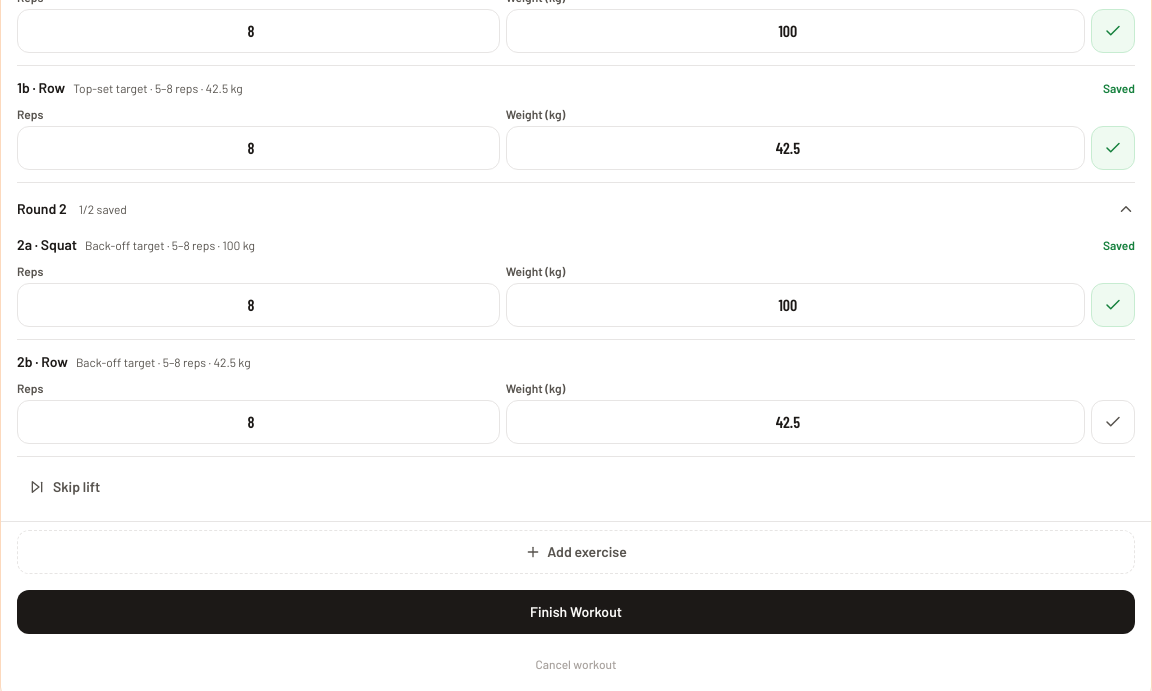
Test: active superset rounds › keeps an otherwise complete superset open for newer edits and their discard until a fresh save
(page scrolled)
Expected: the number field named "Squat set 1a reps" is shown, [17,9,500,53]
Click the button named "Save set 2b".
click(1113, 422)  # box [1091,400,1135,444]
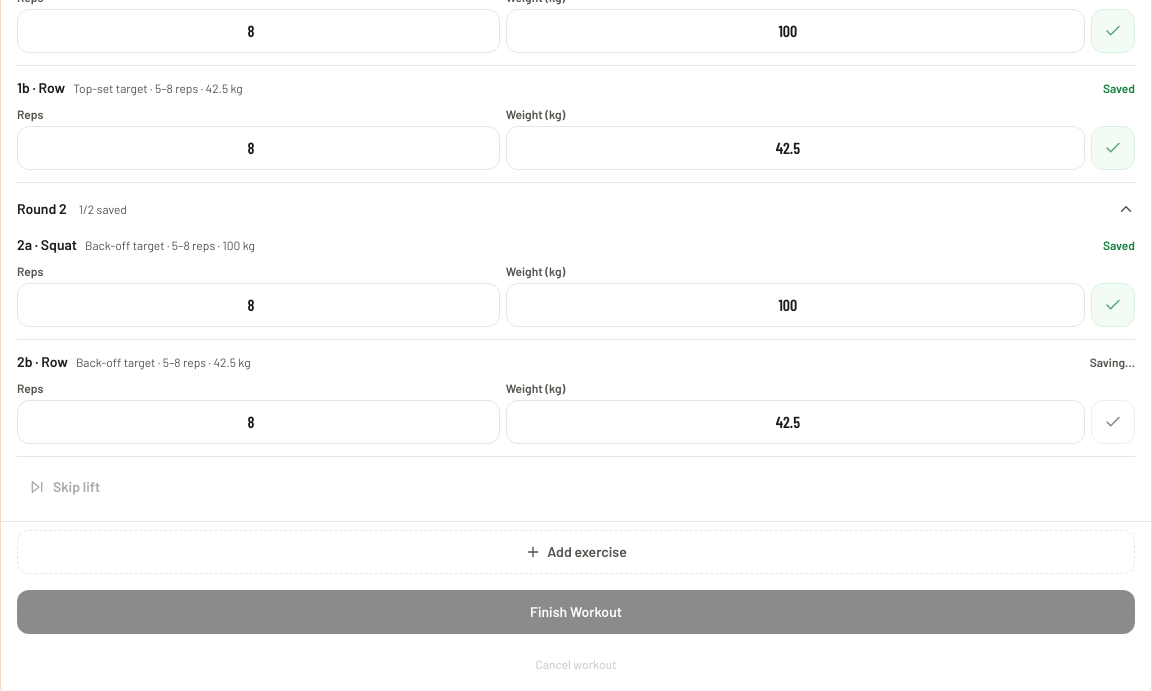
Replace the text in the number field named "Row set 2b reps" with "7" at point(258, 422), box [17,400,500,444]
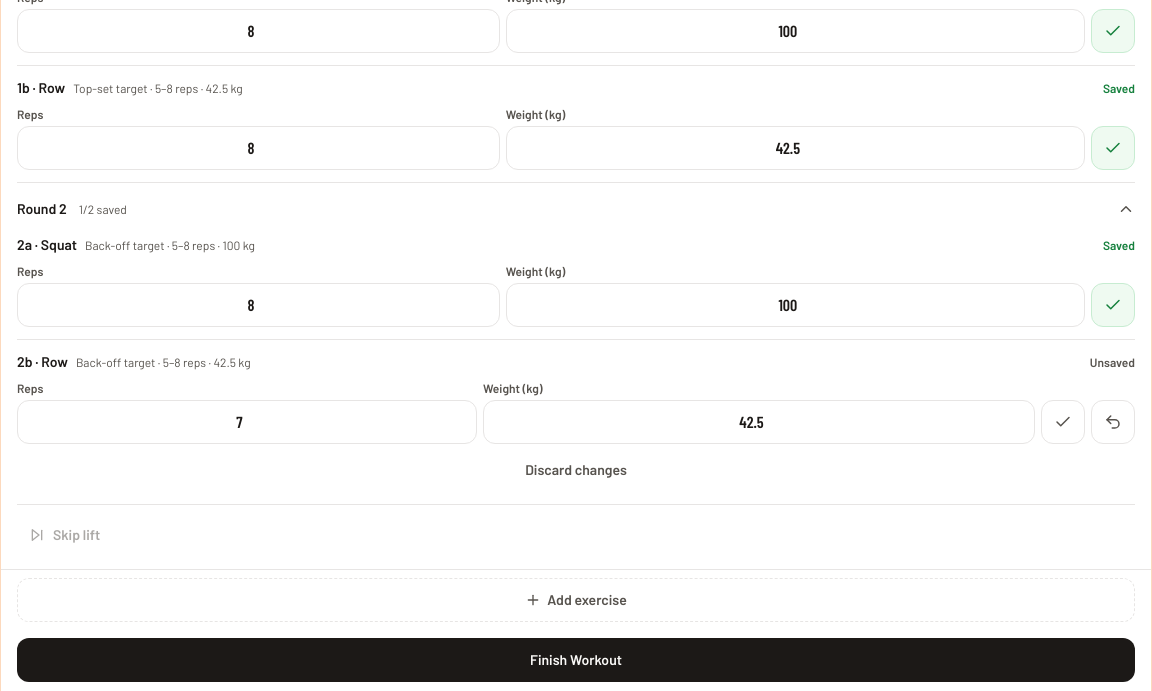
Click the button with aria-label "Discard set 2b changes".
click(576, 470)  # box [17,448,1135,492]
(page scrolled)
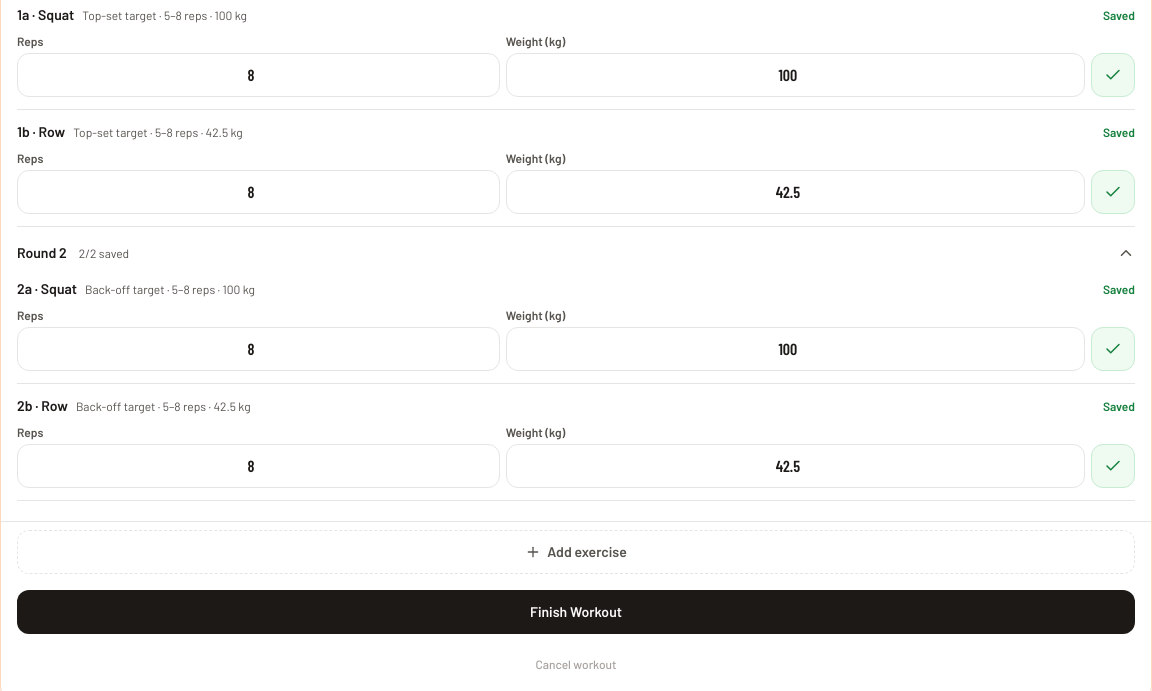
Replace the text in the number field named "Row set 2b reps" with "6" at point(258, 466), box [17,444,500,488]
(page scrolled)
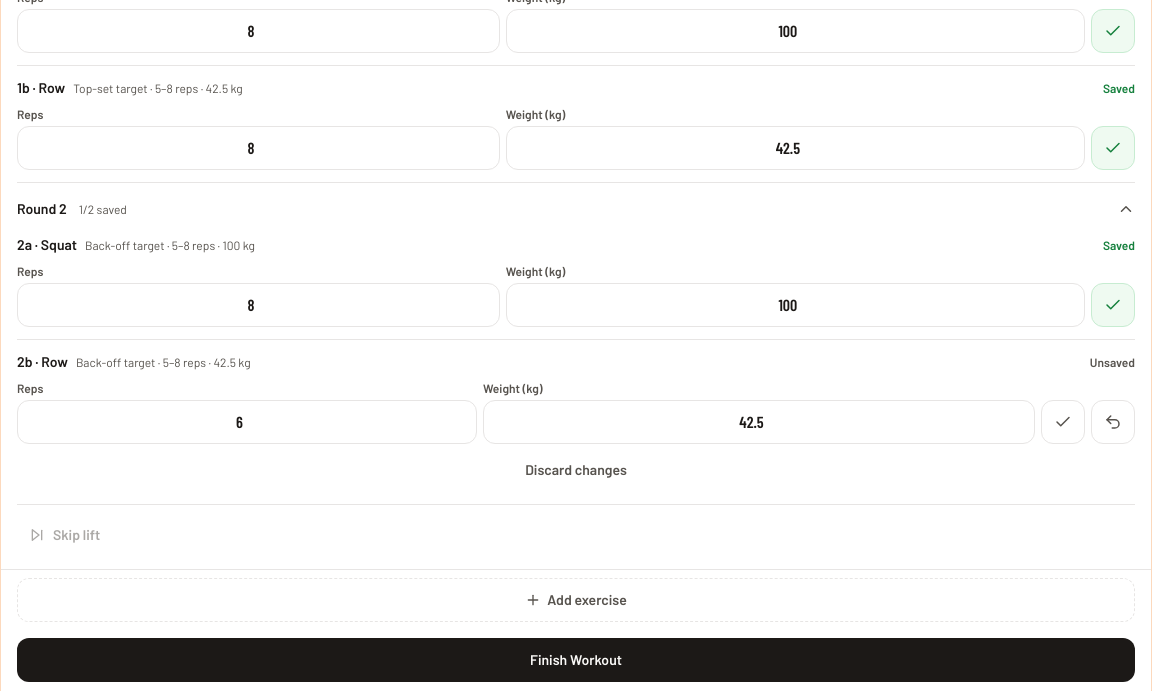
Click the button named "Save set 2b".
click(1063, 422)  # box [1041,400,1085,444]
(page scrolled)
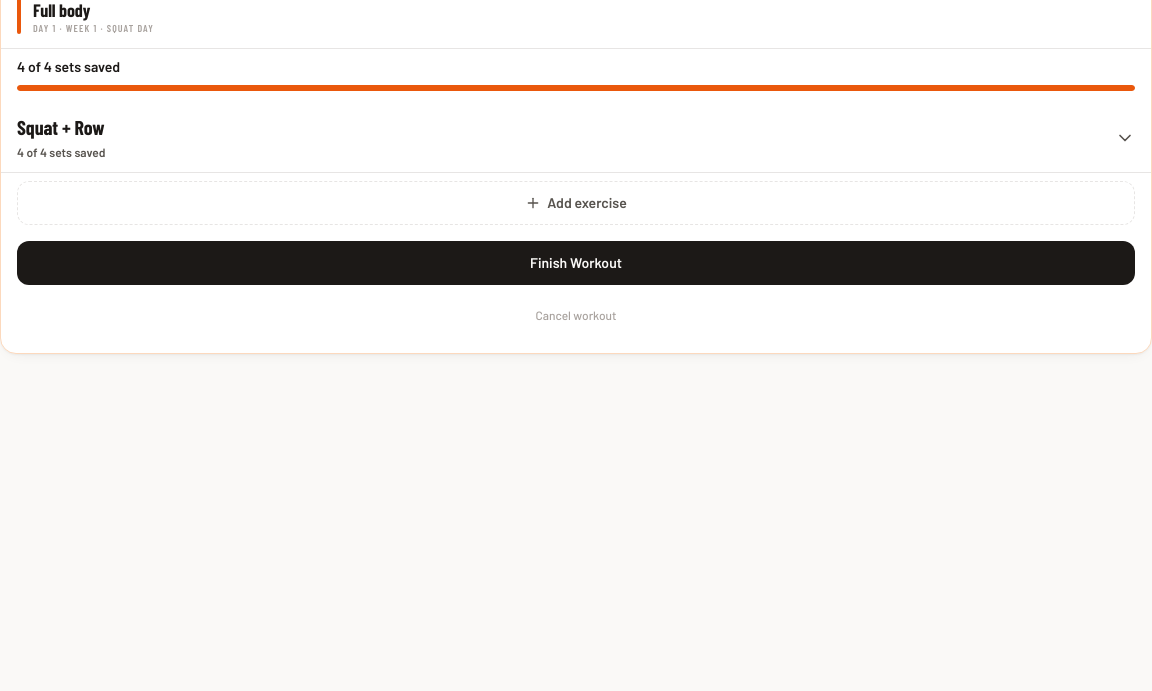
Now the button with aria-label "Expand Squat + Row · Superset A" shows "4 of 4 sets saved", box [1,103,1151,172]
